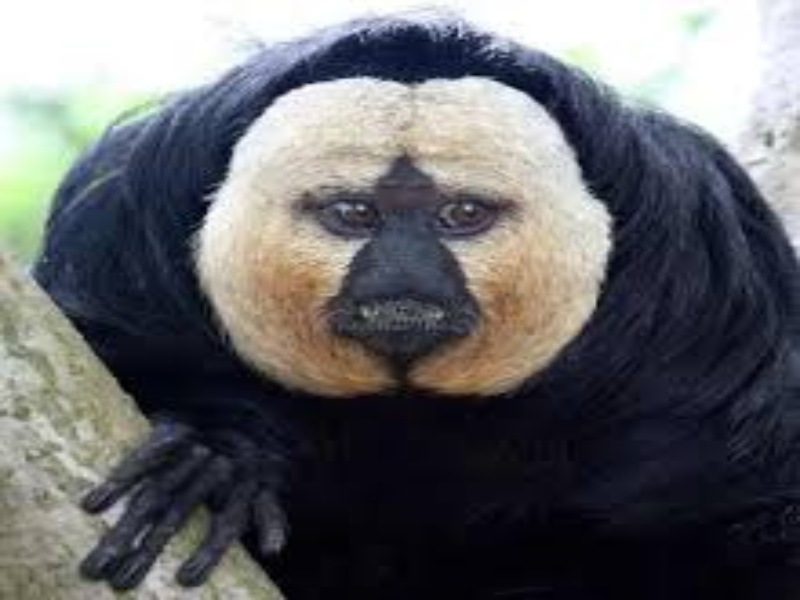monkey: (79, 65, 678, 402)
